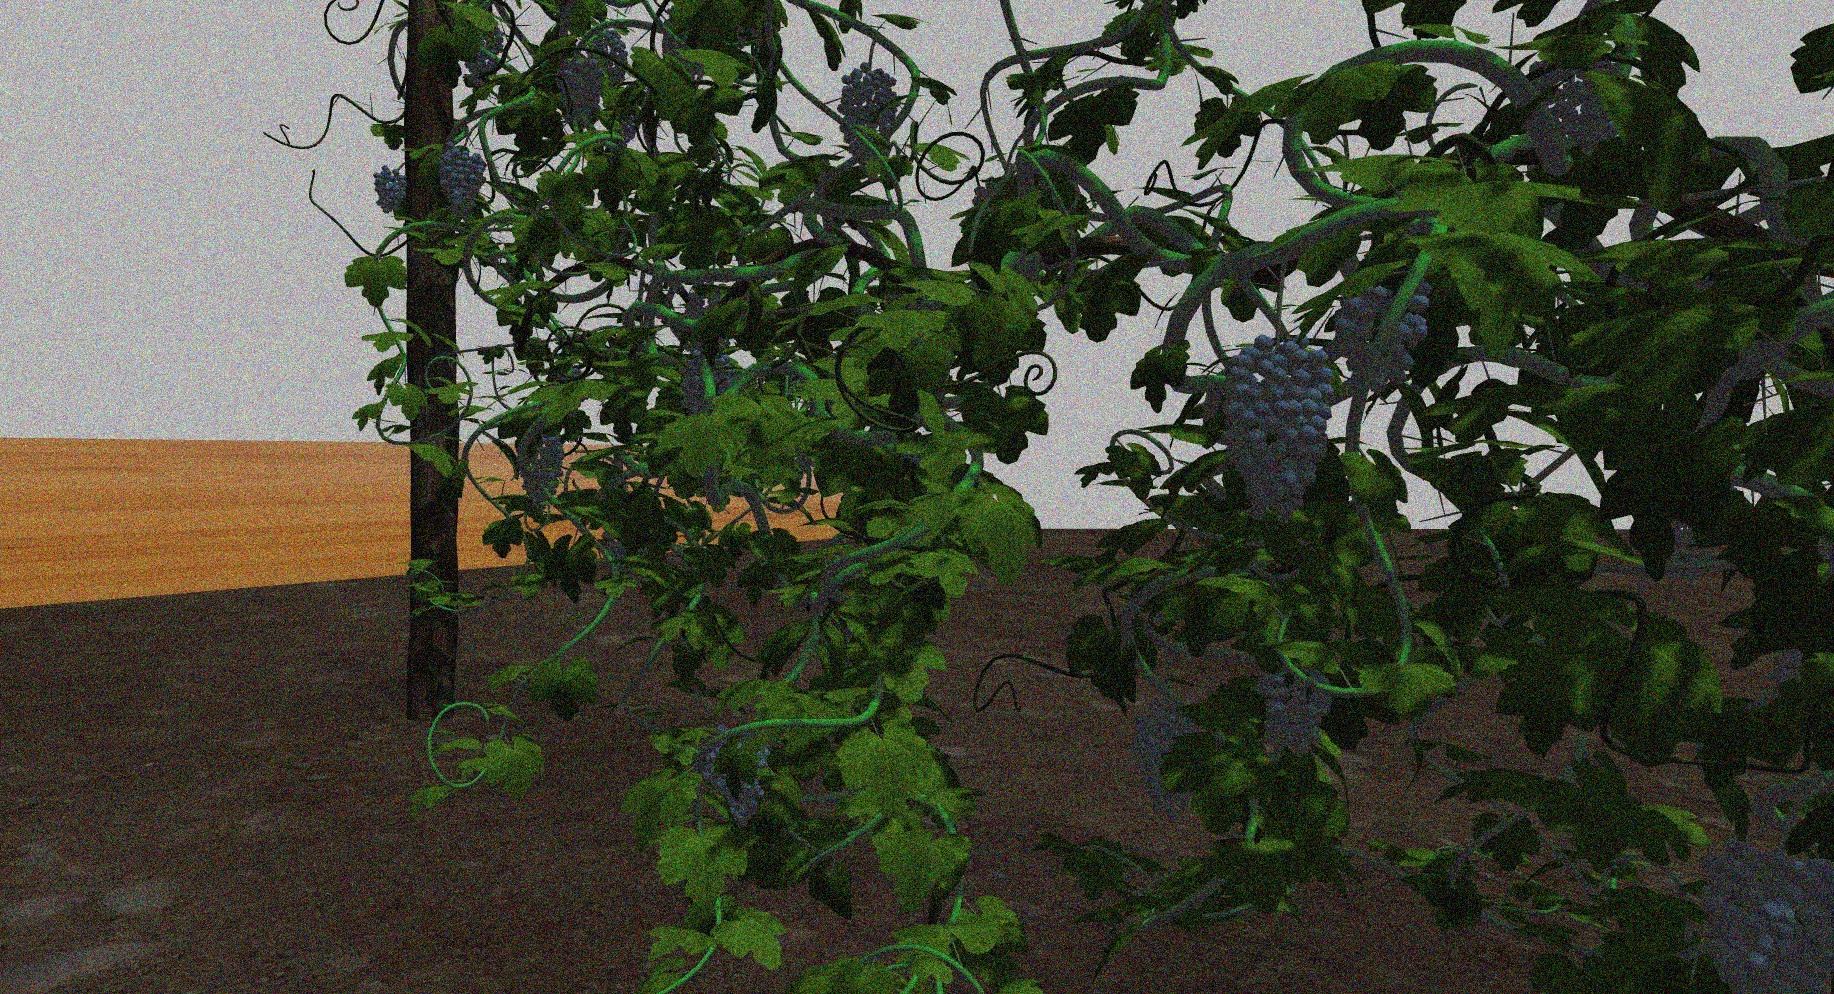grape: (1688, 839, 1833, 992), (1223, 335, 1334, 524), (1334, 274, 1431, 395), (1130, 698, 1209, 823), (1253, 663, 1334, 763), (704, 726, 770, 831), (837, 62, 898, 160), (516, 432, 565, 507), (437, 143, 484, 218), (558, 58, 604, 129), (588, 31, 629, 87), (372, 165, 406, 214)
